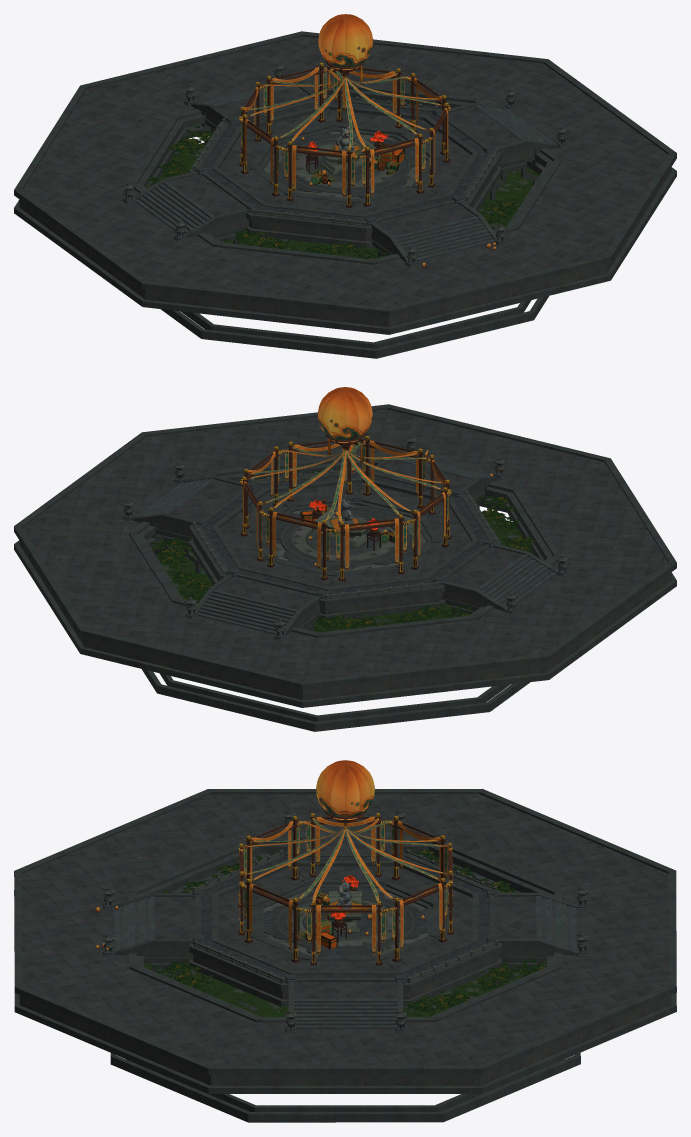
3 views of the same model, one above another, from view 1: azimuth 30°, elevation 25°; view 2: azimuth 150°, elevation 25°; view 3: azimuth 270°, elevation 25° (orthographic). The views are drawn at different scales.
Parts seen in each view (by area): view 1: 0.dds_7, 0.dds, 0.dds_6, 0.dds_5, 0.dds_4, 0.dds_3, 0.dds_15, 0.dds_11, Material #4, 0.dds_14, 0.dds_12, 0.dds_9; view 2: 0.dds_7, 0.dds, 0.dds_5, 0.dds_6, 0.dds_15, 0.dds_4, 0.dds_3, 0.dds_11, 0.dds_14, Material #4, 0.dds_12; view 3: 0.dds_7, 0.dds, 0.dds_6, 0.dds_5, 0.dds_4, 0.dds_3, 0.dds_15, 0.dds_14, 0.dds_11, Material #4, 0.dds_12, 0.dds_9.
Part boxes in pixels (bbox=[...]): 0.dds_7: bbox=[22, 36, 668, 308]; 0.dds: bbox=[14, 31, 676, 358]; 0.dds_6: bbox=[240, 65, 449, 194]; 0.dds_5: bbox=[238, 60, 450, 207]; 0.dds_4: bbox=[122, 78, 568, 267]; 0.dds_3: bbox=[203, 101, 488, 221]; 0.dds_15: bbox=[145, 94, 520, 259]; 0.dds_11: bbox=[301, 14, 496, 267]; Material #4: bbox=[158, 142, 539, 257]; 0.dds_14: bbox=[121, 62, 569, 263]; 0.dds_12: bbox=[264, 131, 426, 198]; 0.dds_9: bbox=[310, 143, 404, 185]; 0.dds_7: bbox=[22, 409, 671, 699]; 0.dds: bbox=[14, 404, 676, 731]; 0.dds_5: bbox=[240, 433, 451, 581]; 0.dds_6: bbox=[241, 438, 450, 567]; 0.dds_15: bbox=[151, 470, 539, 631]; 0.dds_4: bbox=[122, 451, 568, 640]; 0.dds_3: bbox=[202, 474, 487, 593]; 0.dds_11: bbox=[308, 387, 499, 566]; 0.dds_14: bbox=[121, 435, 569, 636]; Material #4: bbox=[151, 518, 533, 632]; 0.dds_12: bbox=[264, 504, 426, 571]; 0.dds_7: bbox=[19, 794, 668, 1065]; 0.dds: bbox=[14, 788, 676, 1122]; 0.dds_6: bbox=[239, 816, 452, 951]; 0.dds_5: bbox=[238, 810, 453, 965]; 0.dds_4: bbox=[103, 826, 587, 1033]; 0.dds_3: bbox=[201, 857, 489, 977]; 0.dds_15: bbox=[152, 849, 546, 1016]; 0.dds_14: bbox=[102, 810, 588, 1029]; 0.dds_11: bbox=[95, 760, 425, 949]; Material #4: bbox=[143, 962, 547, 1016]; 0.dds_12: bbox=[263, 888, 427, 956]; 0.dds_9: bbox=[301, 891, 337, 949].
Bounding box in the file's own units: 5830 × 2525 × 5830.
16 materials, 15 textured.
